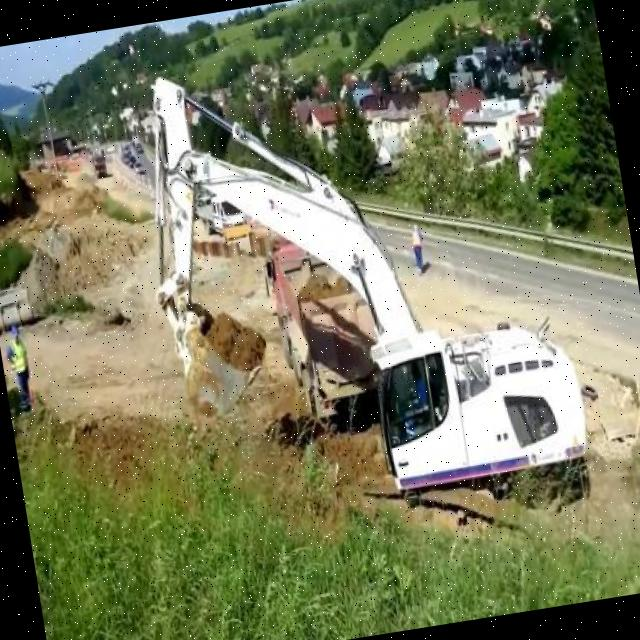Dump Truck: (258, 232, 392, 440)
Excavator: (120, 15, 600, 562)
